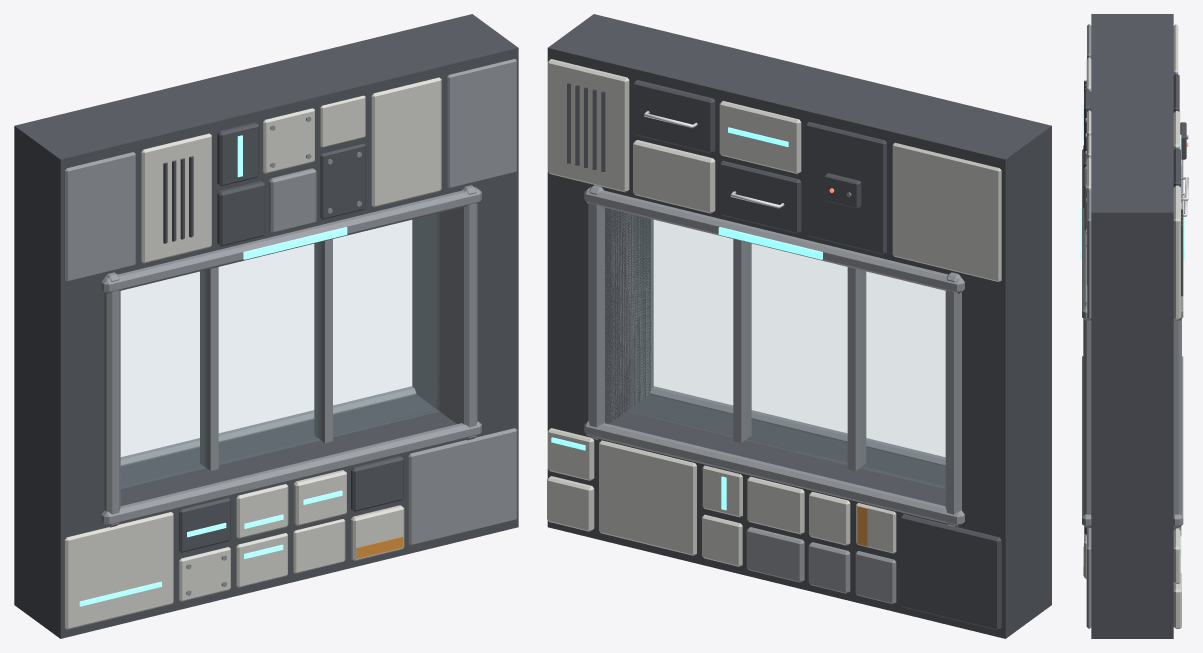
File: window_obs.glb
3 views of the same model, side by side, from view 1: azimuth 30°, elevation 25°; view 2: azimuth 150°, elevation 25°; view 3: azimuth 270°, elevation 25° (orthographic). The views are drawn at different scales.
Visible parts, largest first — view 1: window_obs; view 2: window_obs; view 3: window_obs.
Part boxes in pixels (box(x1,y1,x2,y2)): window_obs: box(14, 14, 518, 638); window_obs: box(547, 14, 1051, 638); window_obs: box(1080, 14, 1188, 638).
Size of the model in its own units: 4 by 4 by 0.9215.
